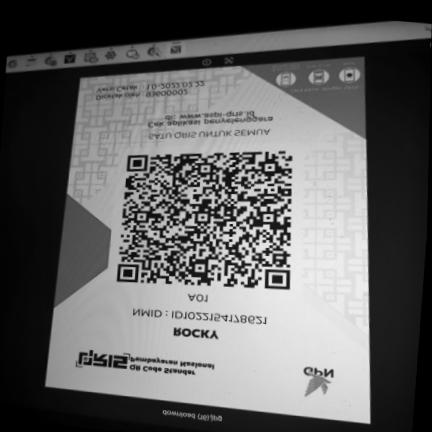Cara Pakai QRIS: (266, 57, 364, 99)
Cek Aplikasi Penyelenggara: (145, 105, 276, 130)
Dicetak Oleh: (94, 89, 190, 102)
Logo GPN: (293, 360, 347, 404)
Logo dan deskripsi QRIS: (69, 343, 224, 384)
Nama Merchant: (169, 324, 222, 342)
National Merchant ID: (128, 305, 274, 330)
QR Code: (113, 146, 297, 293)
Slogan: (144, 126, 275, 142)
Terminal ID: (184, 291, 211, 305)
Versi Cetak: (95, 79, 207, 94)
